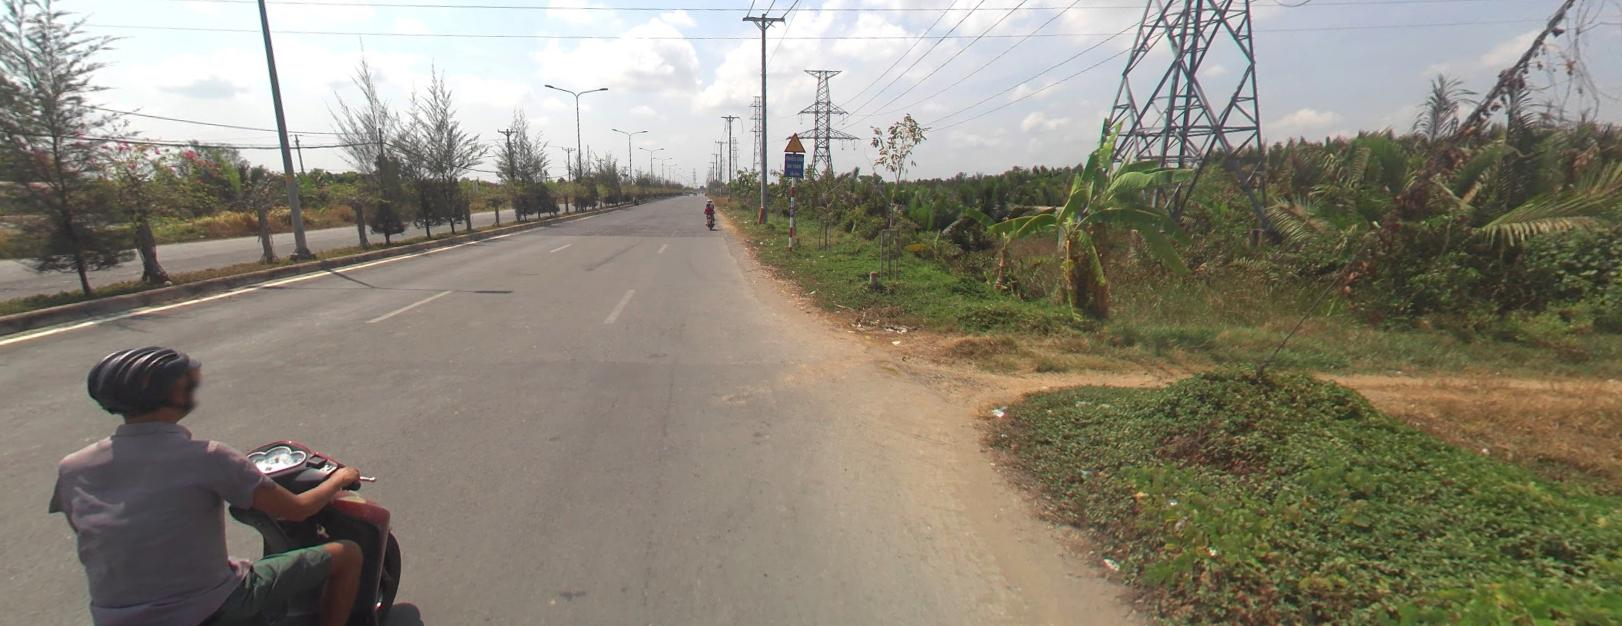Nguy hiem: (783, 132, 804, 151)
